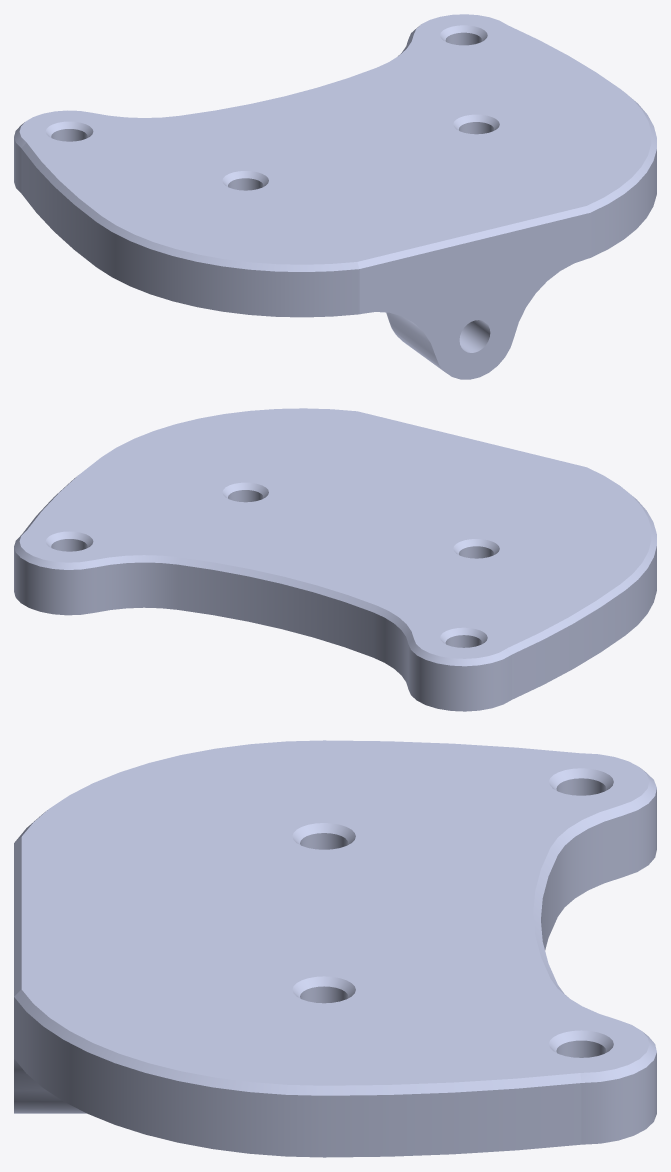
The picture shows the model from 3 angles, top to bottom: view 1: azimuth 30°, elevation 25°; view 2: azimuth 150°, elevation 25°; view 3: azimuth 270°, elevation 25°; orthographic projection. The views are drawn at different scales.
Visible parts, largest first — view 1: node0; view 2: node0; view 3: node0.
Part boxes in pixels (x1=…): node0: x1=14, y1=14, x2=656, y2=379; node0: x1=14, y1=408, x2=656, y2=711; node0: x1=14, y1=740, x2=656, y2=1157.
Bounding box in the file's own units: 0.055 × 0.0142 × 0.0425.
